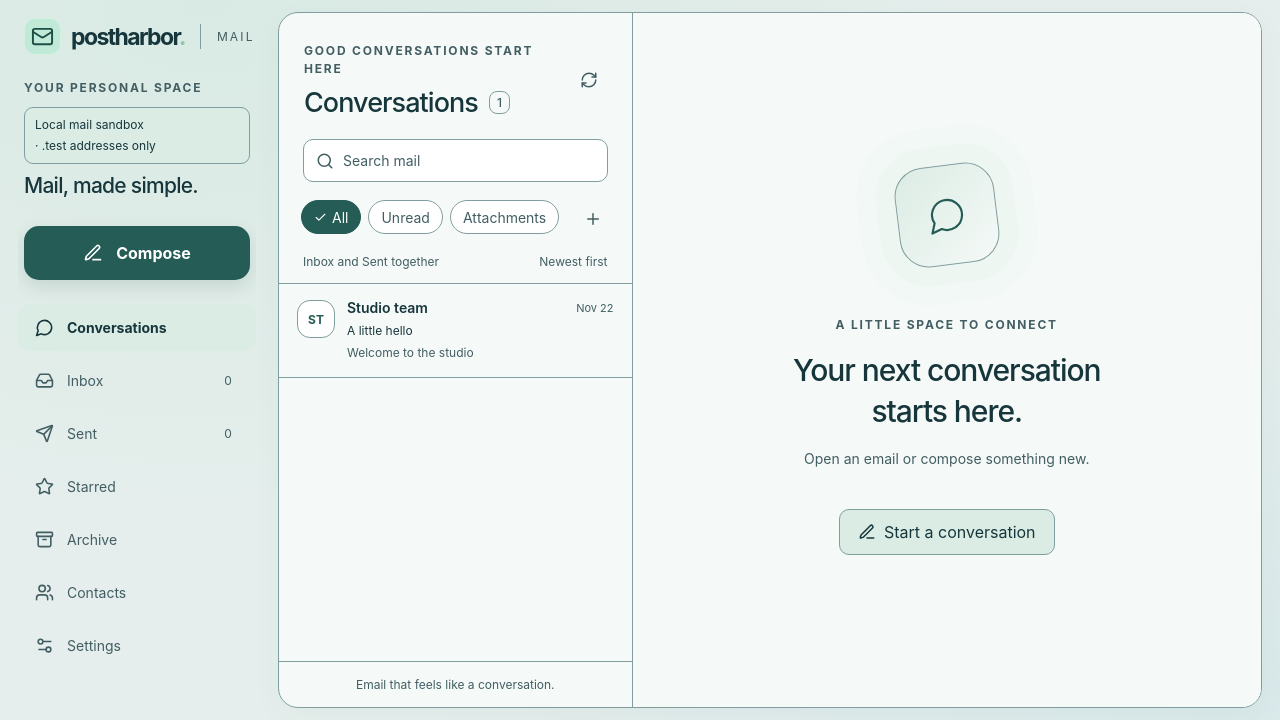
mailbox experience › renders incoming content as text and searches only the loaded mailbox
Click the button "ST Studio team Nov 22 A little hello Welcome to the studio". click: [316, 319]
box: [279,284,632,378]
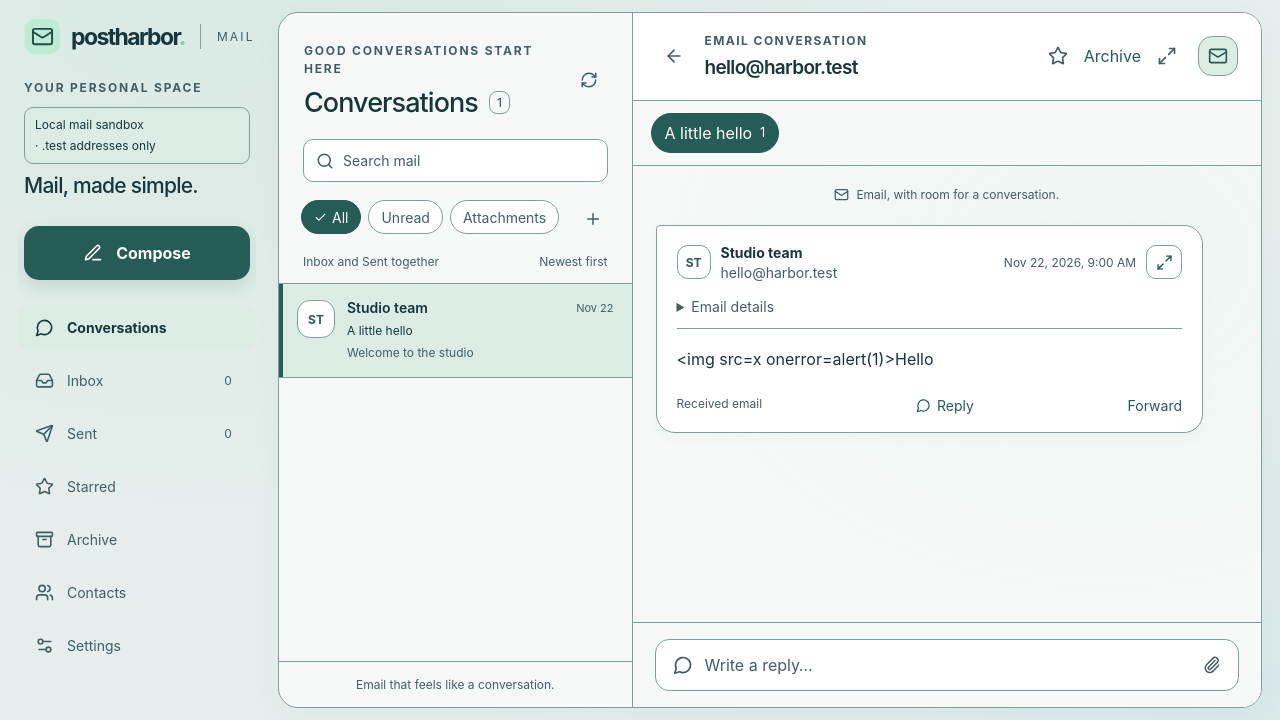
Result: the text "<img src=x onerror=alert(1)>Hello" is shown at [676,349,934,369]
Type "not in this mailbox" into the field labelled "Search mail". click: [469, 160]
box: [343,142,594,179]
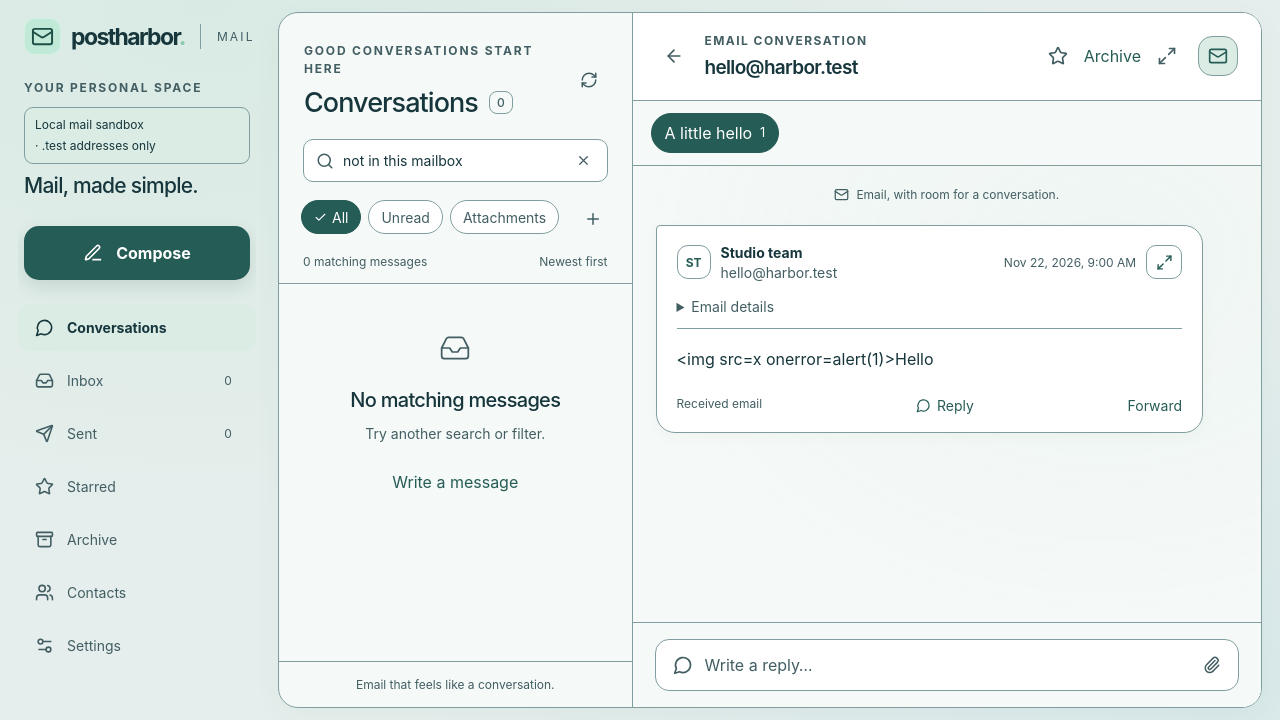
Result: the heading "No matching messages" is shown at [350,388,560,412]
Result: the button "Studio team Nov 22 A little hello Welcome to the studio" is gone
